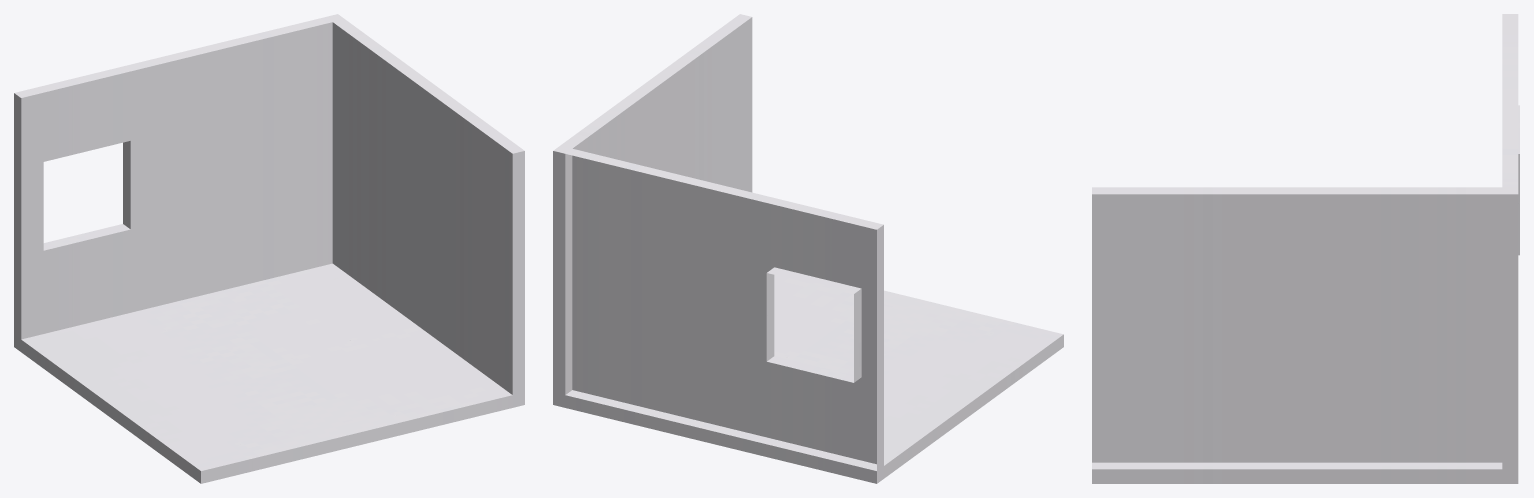
Rendered from walls.obj.
The picture shows the model from 3 angles, left to right: view 1: azimuth 30°, elevation 25°; view 2: azimuth 150°, elevation 25°; view 3: azimuth 270°, elevation 25°; orthographic projection. The views are drawn at different scales.
Parts seen in each view (by area): view 1: witch's_house.004; view 2: witch's_house.004; view 3: witch's_house.004.
Part boxes in pixels (x1,y1,x2,y2): witch's_house.004: [14, 14, 524, 483]; witch's_house.004: [553, 14, 1063, 483]; witch's_house.004: [1092, 14, 1519, 483].
Bounding box in the file's own units: 4 × 3 × 4.01.
Materials: 1 (1 with a texture image).
